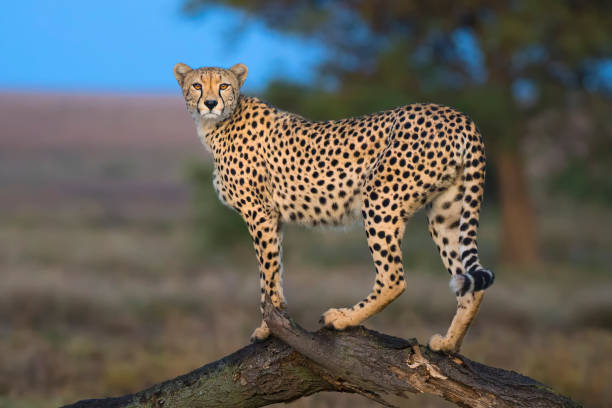cheetah: (161, 59, 260, 131)
